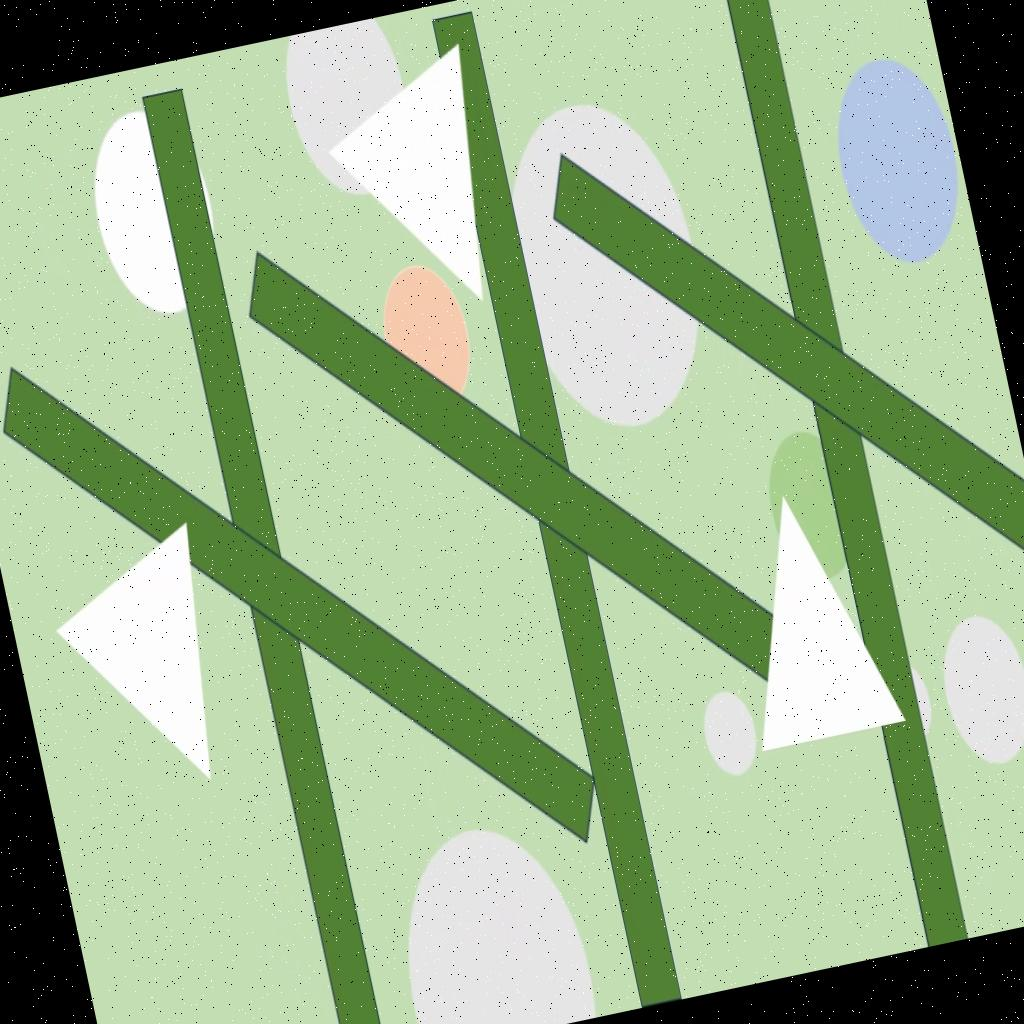Circle: (477, 85, 727, 446), (379, 805, 600, 1024), (818, 42, 978, 277), (76, 98, 232, 326), (276, 15, 424, 206), (757, 423, 865, 588), (370, 252, 482, 411), (929, 606, 1024, 773), (698, 684, 764, 780), (887, 666, 938, 740)
